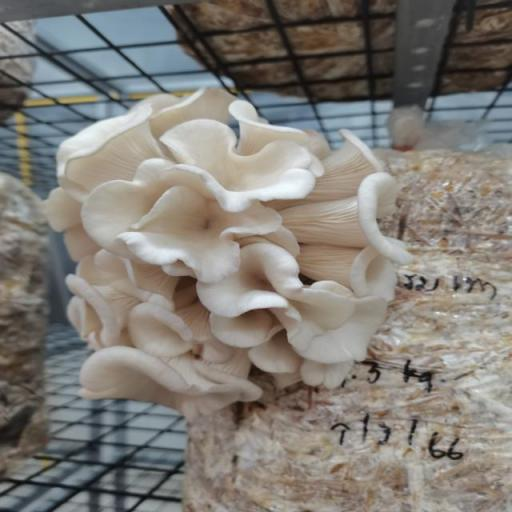White Oyster Mushroom: (42, 82, 411, 415)
